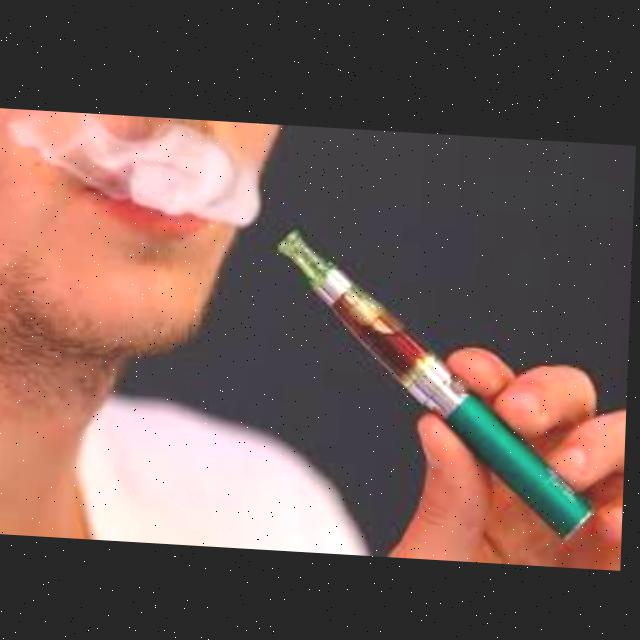vape: (270, 222, 609, 538)
